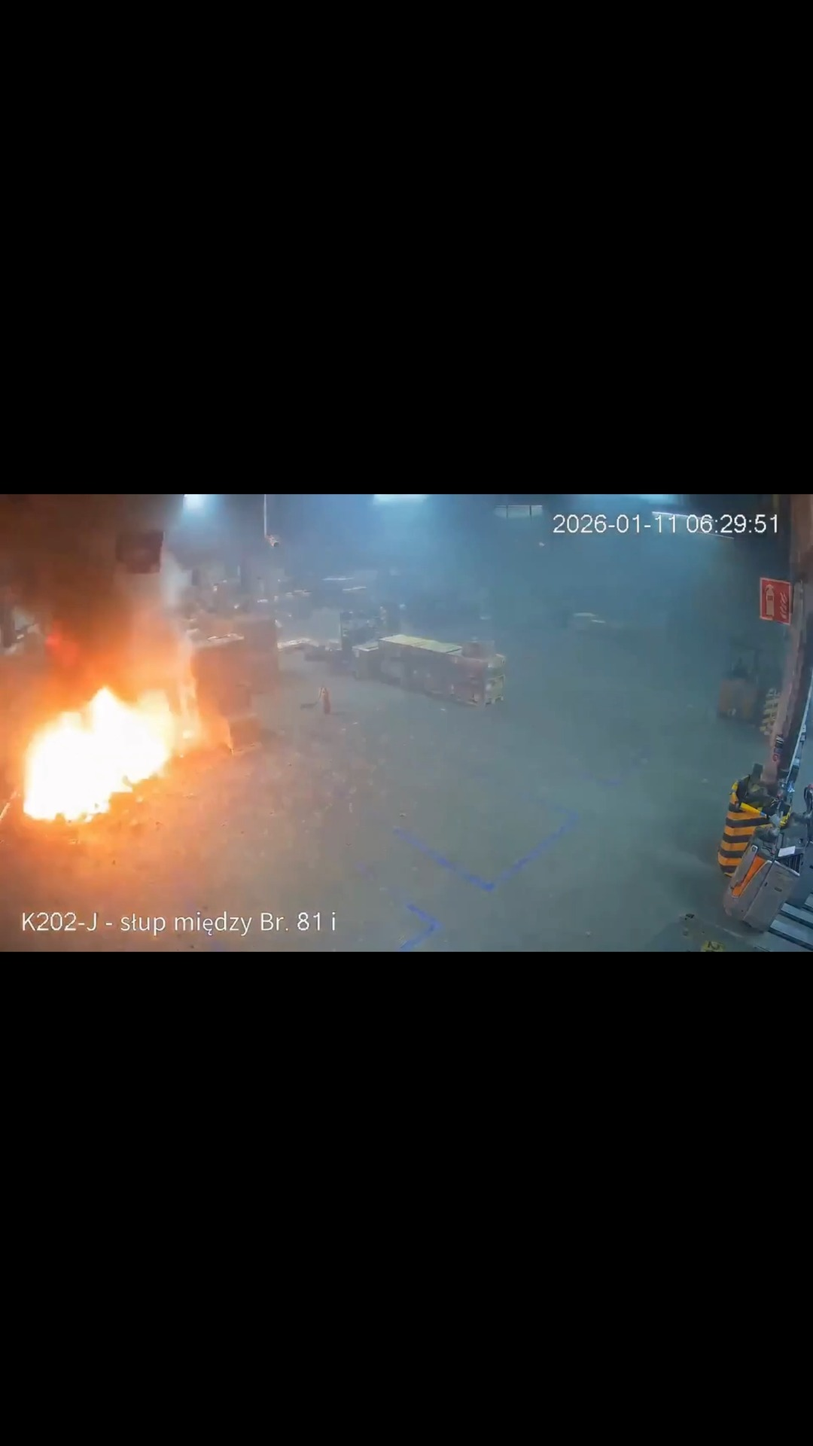fire: (17, 616, 229, 827)
smoke: (2, 497, 233, 709)
